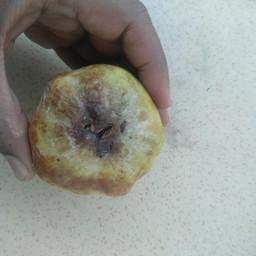Bad_guava: (25, 62, 163, 200)
